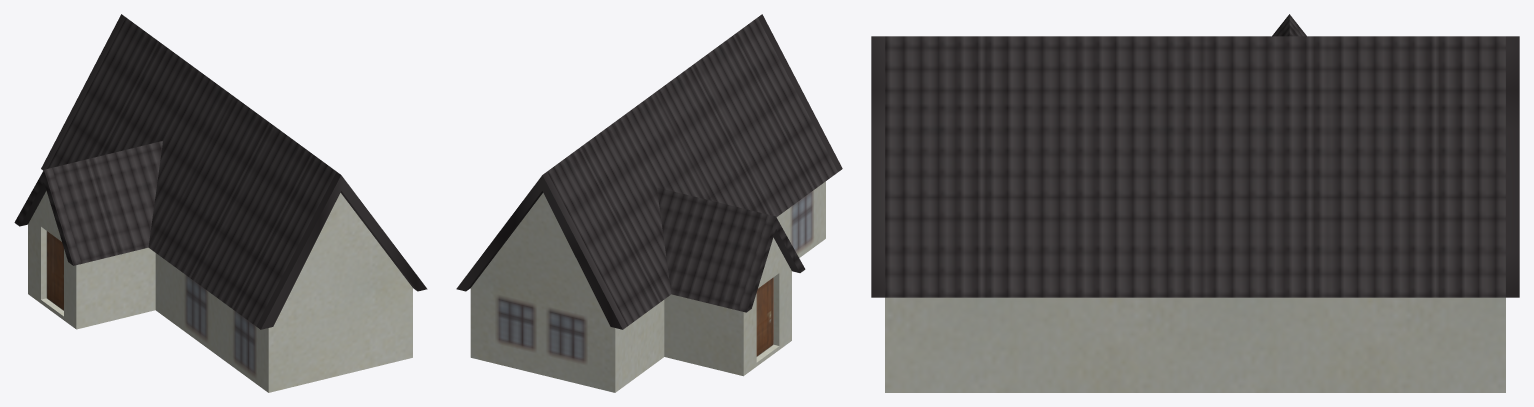
The model's file is House.fbx.
The picture shows the model from 3 angles, left to right: view 1: azimuth 30°, elevation 25°; view 2: azimuth 150°, elevation 25°; view 3: azimuth 270°, elevation 25°; orthographic projection. The views are drawn at different scales.
Visible parts, largest first — view 1: House1.001; view 2: House1.001; view 3: House1.001.
Boxes of the visible parts, x1,y1,x2,y2 form: House1.001: (14,14,427,392); House1.001: (456,14,842,392); House1.001: (871,14,1519,392).
Bounding box in the file's own units: 2059 × 1666 × 3244.
